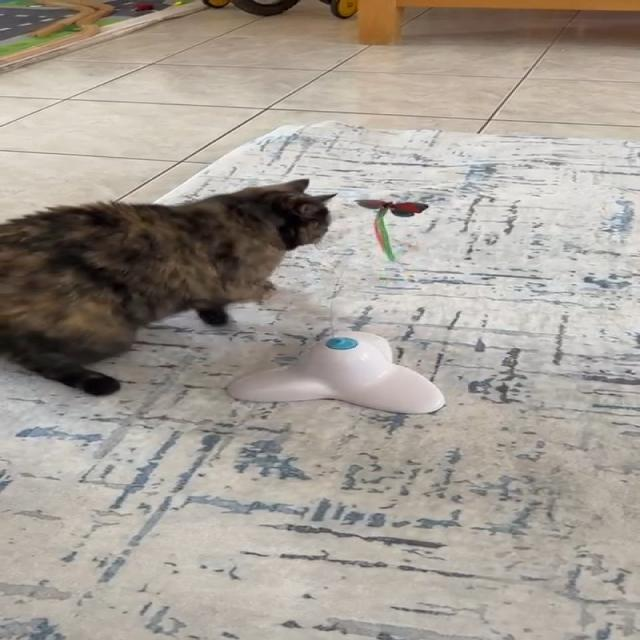authorized: (0, 177, 337, 396)
